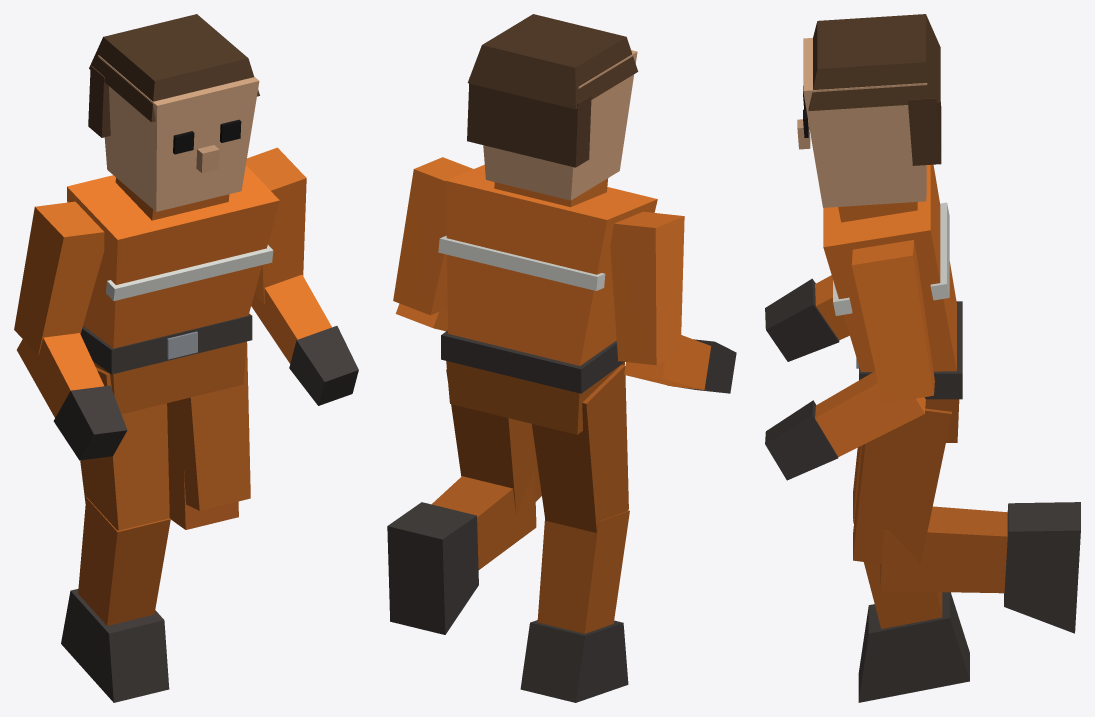
File: character_pose_2.obj
3 renders of one model, left to right at view 1: azimuth 30°, elevation 25°; view 2: azimuth 150°, elevation 25°; view 3: azimuth 270°, elevation 25°, orthographic. The views are drawn at different scales.
Size of the model in its own units: 0.6482 by 1.43 by 0.6093.
